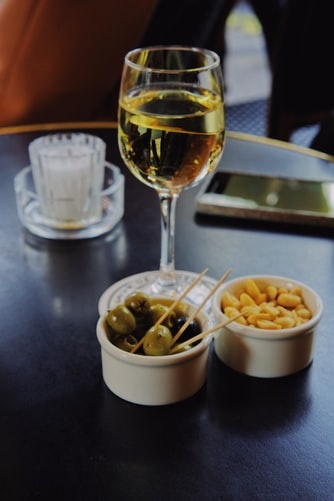whiskey: (114, 48, 229, 291)
